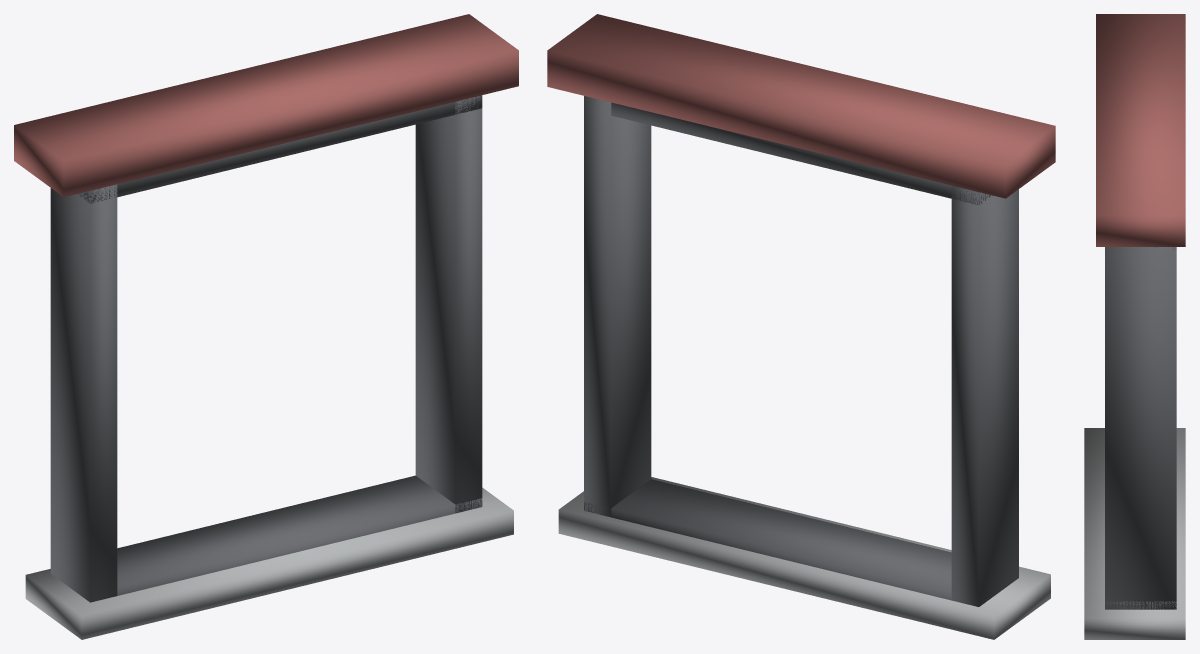
The model's file is egress_window_brick_w118_h130_s55_d24.glb.
3 renders of one model, left to right at view 1: azimuth 30°, elevation 25°; view 2: azimuth 150°, elevation 25°; view 3: azimuth 270°, elevation 25°, orthographic. The views are drawn at different scales.
Visible parts, largest first — view 1: world; view 2: world; view 3: world.
Part boxes in pixels (x1,y1,x2,y2): world: [14, 14, 518, 639]; world: [547, 14, 1055, 639]; world: [1084, 14, 1185, 639].
Size of the model in its own units: 1.59 by 1.59 by 0.34.
